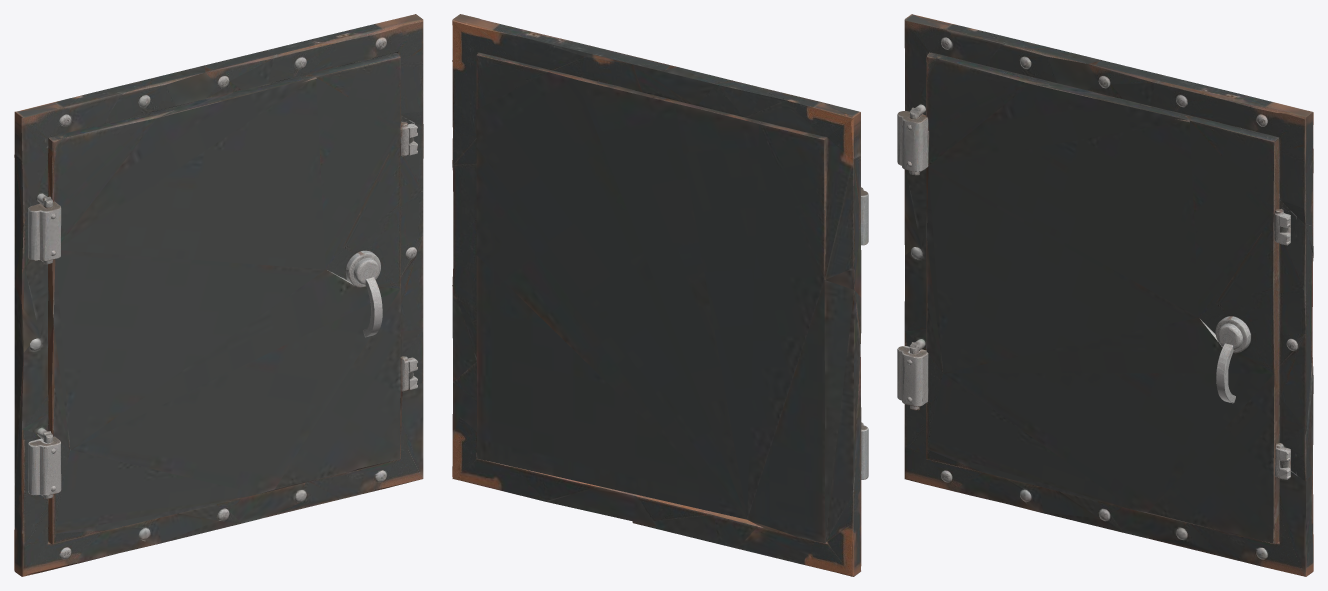
Rendered from sportello_cassaforte_N.glb.
3 renders of one model, left to right at view 1: azimuth 30°, elevation 25°; view 2: azimuth 150°, elevation 25°; view 3: azimuth 330°, elevation 25°, orthographic.
Parts seen in each view (by area): view 1: Mesh_0; view 2: Mesh_0; view 3: Mesh_0.
Part boxes in pixels (x1,y1,x2,y2): Mesh_0: [14, 14, 423, 576]; Mesh_0: [452, 14, 868, 576]; Mesh_0: [897, 14, 1313, 576].
Size of the model in its own units: 0.56 by 0.6133 by 0.0745.
1 material, 1 textured.
